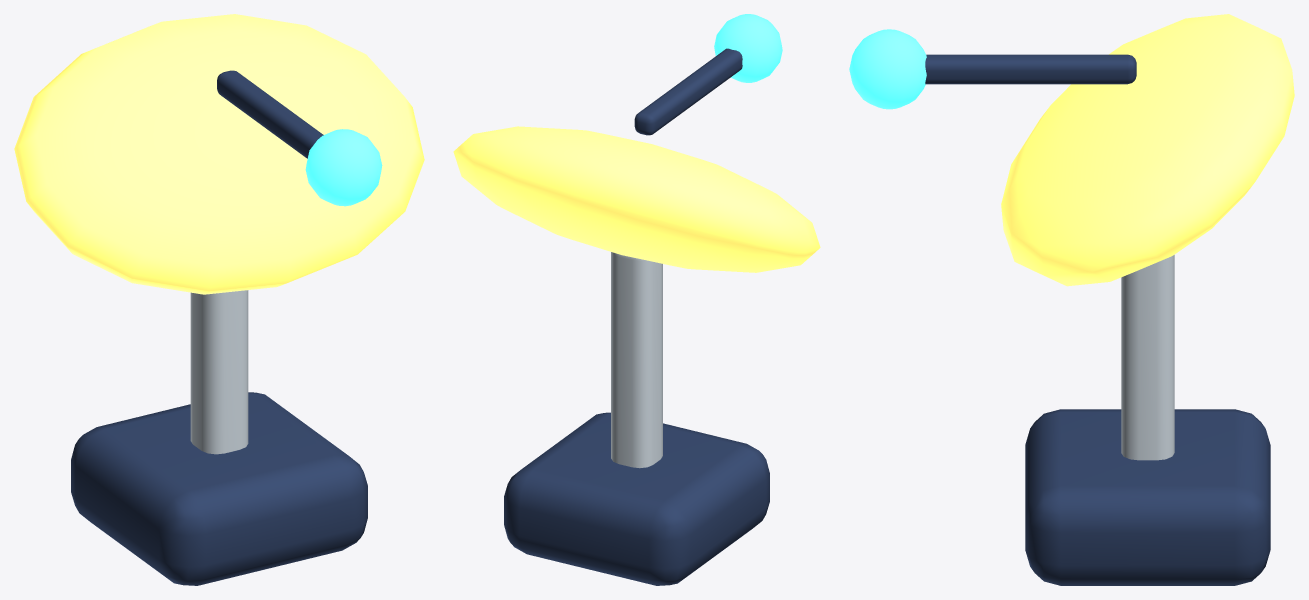
The model's file is radar.glb.
The picture shows the model from 3 angles, left to right: view 1: azimuth 30°, elevation 25°; view 2: azimuth 150°, elevation 25°; view 3: azimuth 270°, elevation 25°; orthographic projection. The views are drawn at different scales.
Parts seen in each view (by area): view 1: Radar dish, Radar foot, Radar mast, Radar signal, Radar receiver; view 2: Radar dish, Radar foot, Radar mast, Radar receiver, Radar signal; view 3: Radar dish, Radar foot, Radar mast, Radar receiver, Radar signal.
Boxes of the visible parts, x1=… form: Radar dish: x1=14, y1=14, x2=424, y2=294; Radar foot: x1=71, y1=392, x2=367, y2=585; Radar mast: x1=190, y1=290, x2=248, y2=454; Radar signal: x1=305, y1=129, x2=382, y2=206; Radar receiver: x1=217, y1=70, x2=323, y2=158; Radar dish: x1=453, y1=126, x2=820, y2=272; Radar foot: x1=504, y1=412, x2=769, y2=585; Radar mast: x1=611, y1=252, x2=662, y2=468; Radar receiver: x1=634, y1=48, x2=742, y2=135; Radar signal: x1=714, y1=14, x2=782, y2=82; Radar dish: x1=1001, y1=14, x2=1294, y2=286; Radar foot: x1=1025, y1=409, x2=1270, y2=585; Radar mast: x1=1121, y1=255, x2=1174, y2=460; Radar receiver: x1=925, y1=54, x2=1136, y2=84; Radar signal: x1=849, y1=29, x2=926, y2=109.
Size of the model in its own units: 1.04 by 1.27 by 0.9993.
